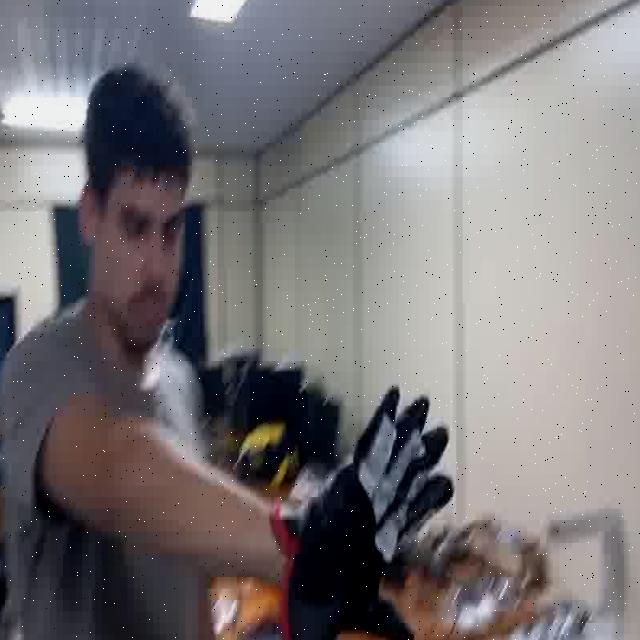Gloves: (278, 374, 450, 640)
